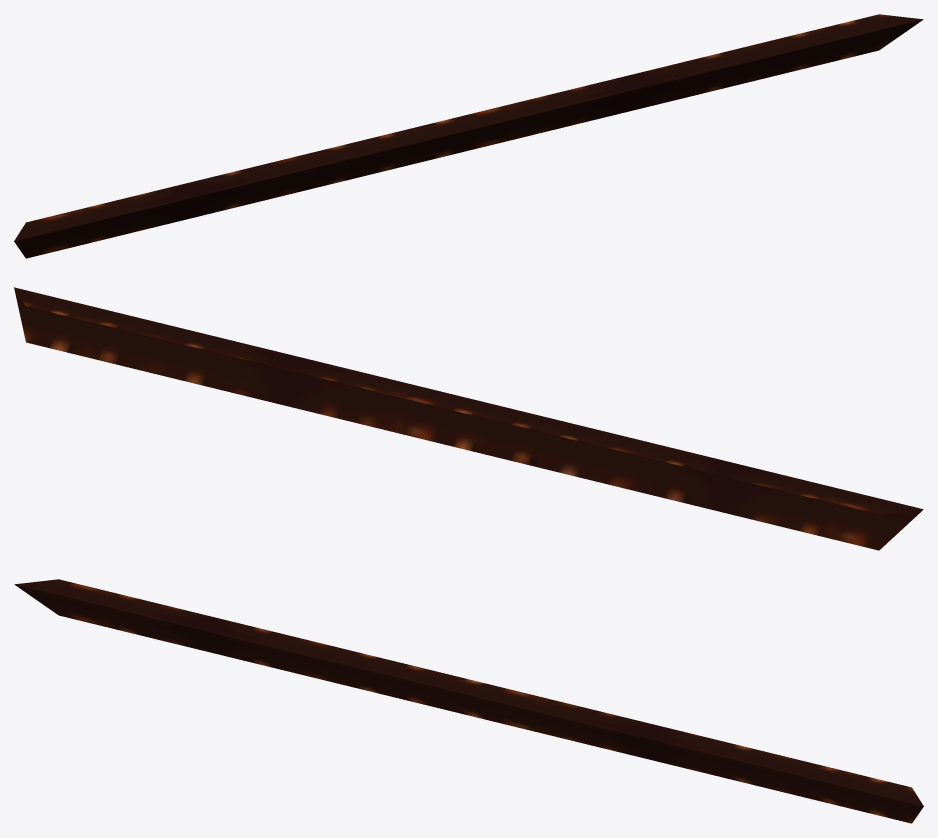
Rendered from W_A1_xffx_Verschoben_1649.glb.
The picture shows the model from 3 angles, top to bottom: view 1: azimuth 30°, elevation 25°; view 2: azimuth 150°, elevation 25°; view 3: azimuth 330°, elevation 25°; orthographic projection.
Visible parts, largest first — view 1: polySurfaceShape1022; view 2: polySurfaceShape1022; view 3: polySurfaceShape1022.
Boxes of the visible parts, x1,y1,x2,y2 form: polySurfaceShape1022: [14, 14, 923, 258]; polySurfaceShape1022: [14, 287, 923, 550]; polySurfaceShape1022: [14, 579, 923, 823].
Size of the model in its own units: 1.07 by 0.0406 by 0.0333.
Materials: 1 (1 with a texture image).
